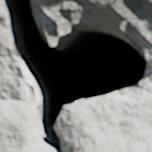broken_brick: (58, 93, 151, 151), (0, 99, 57, 151)
crack: (1, 0, 150, 151)
